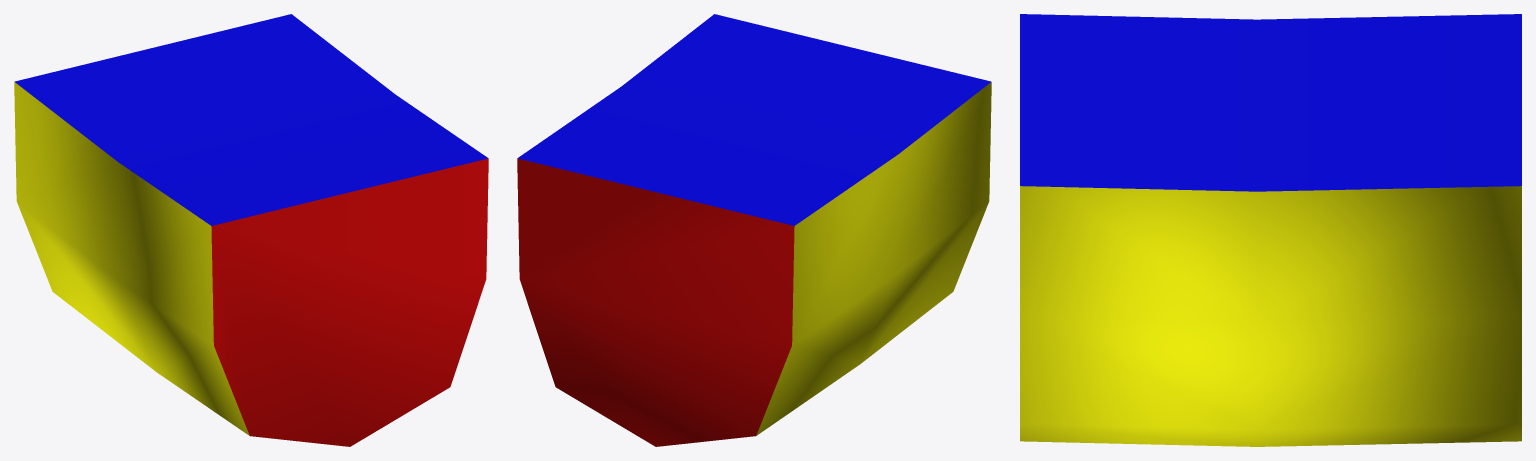
3 views of the same model, side by side, from view 1: azimuth 30°, elevation 25°; view 2: azimuth 150°, elevation 25°; view 3: azimuth 270°, elevation 25° (orthographic). The views are drawn at different scales.
Parts seen in each view (by area): view 1: polySurface119; view 2: polySurface119; view 3: polySurface119.
Boxes of the visible parts, x1,y1,x2,y2 form: polySurface119: [14, 14, 488, 446]; polySurface119: [517, 14, 991, 446]; polySurface119: [1020, 14, 1521, 446].
Size of the model in its own units: 23.58 by 21.06 by 29.05.
